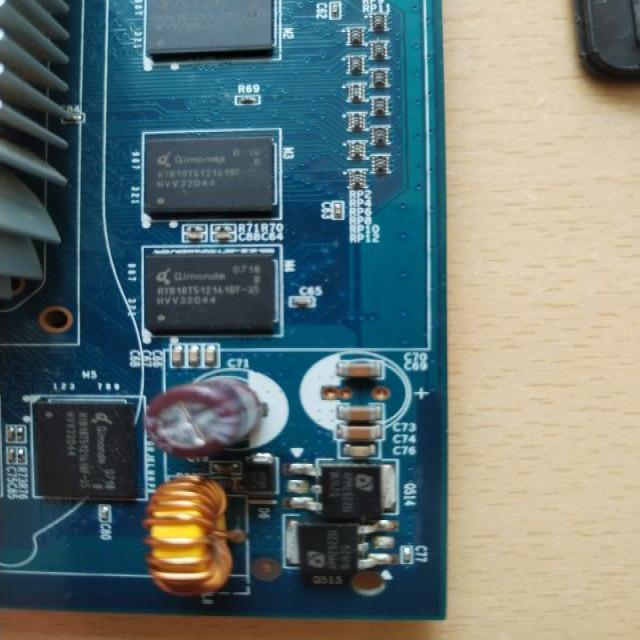capacitor: (333, 356, 389, 381), (337, 402, 388, 422), (333, 420, 382, 440), (344, 442, 377, 461), (205, 341, 218, 372), (172, 346, 185, 372), (189, 344, 202, 366), (333, 202, 343, 222)
resistor: (367, 148, 397, 182), (338, 170, 375, 197), (365, 6, 391, 33), (344, 132, 368, 161), (370, 122, 394, 150), (287, 295, 318, 314), (342, 109, 370, 128), (342, 56, 366, 77), (343, 23, 365, 45), (342, 84, 366, 104), (372, 98, 394, 118), (372, 42, 391, 65), (370, 68, 391, 88), (237, 95, 261, 108)
